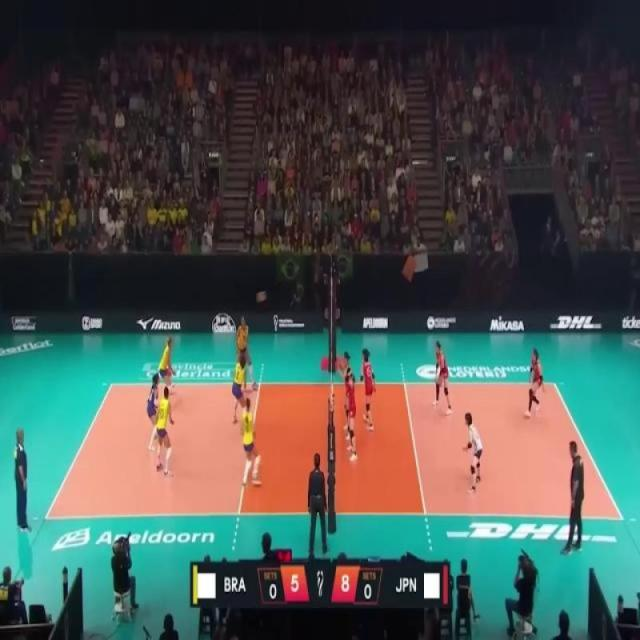volleyball: (256, 290, 266, 303)
